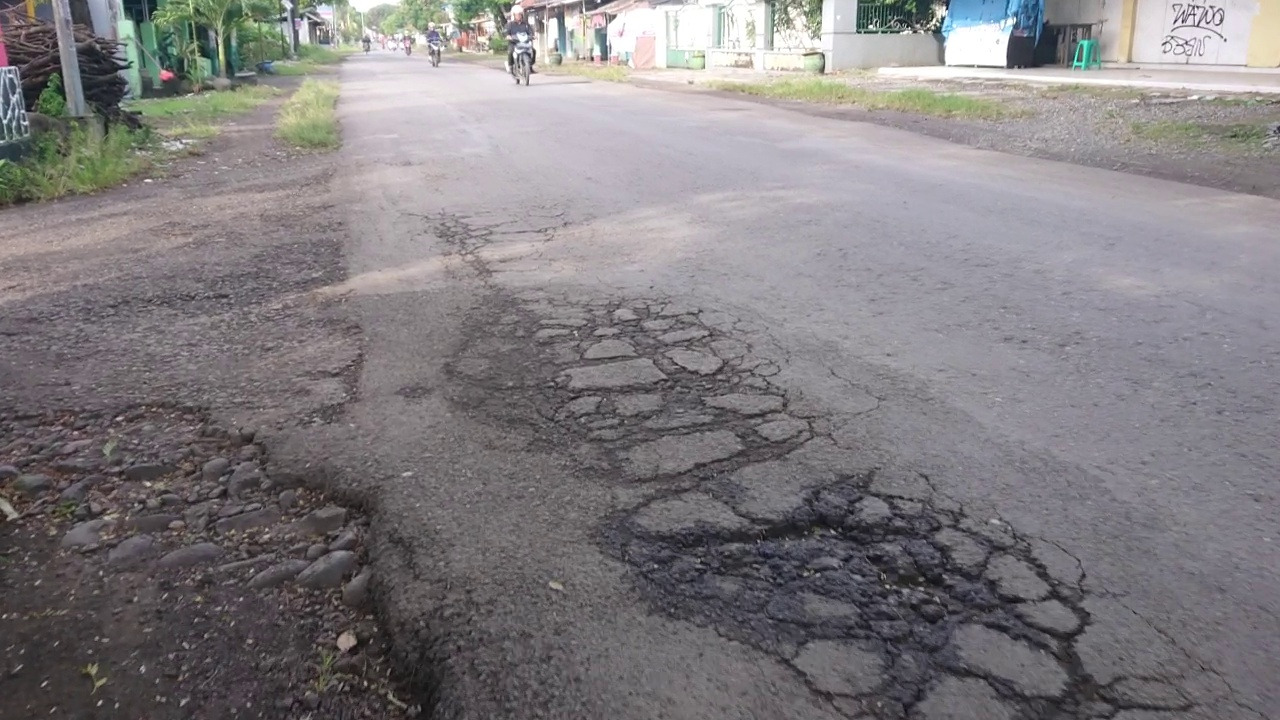Retak: (484, 306, 1077, 720)
